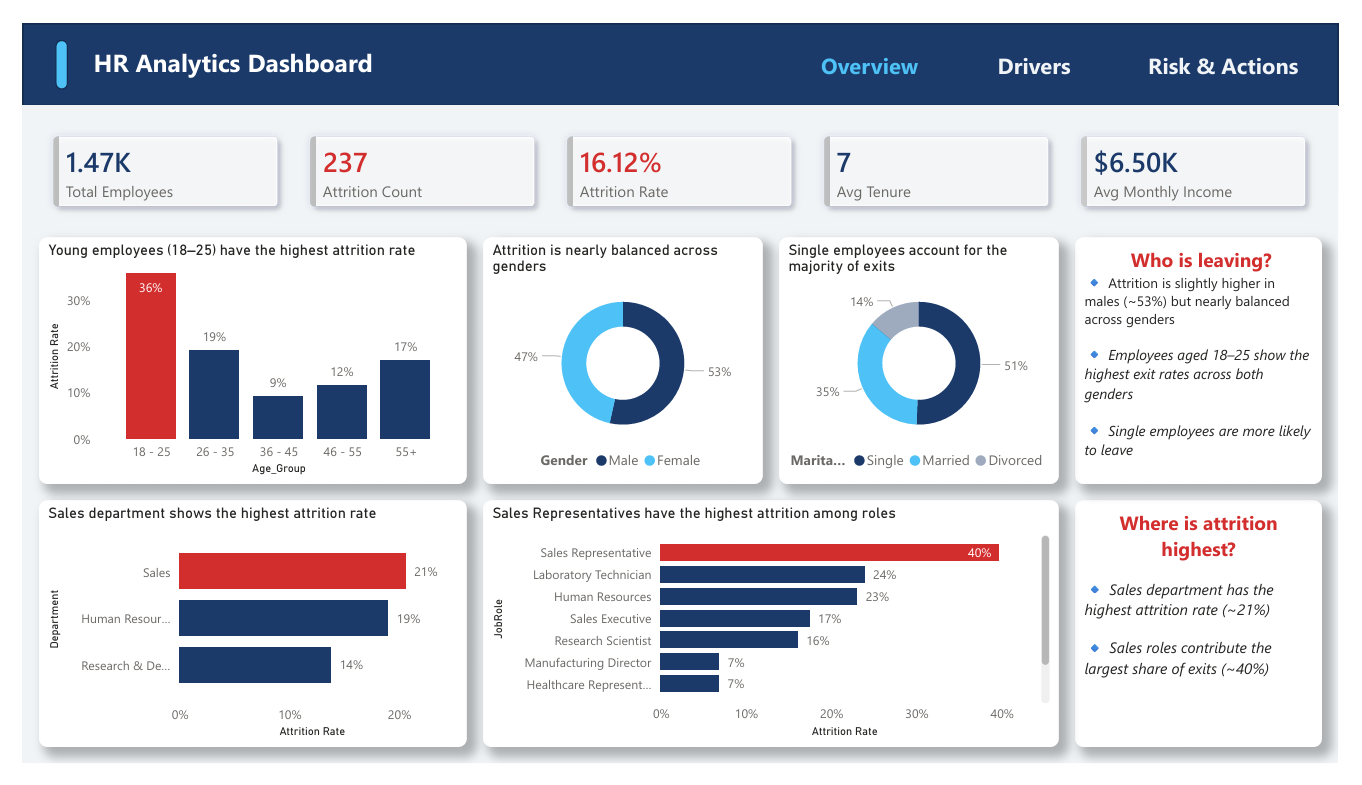

Layout of this report page (visuals, bound fields, positions):
{"tool":"powerbi","page":{"name":"Overview","canvas":[1280,720],"ordinal":0},"visuals":[{"type":"shape","box":[0,0,1280,80],"z":0},{"type":"textbox","box":[64,16,304,48],"z":1000},{"type":"shape","box":[32,16,12,48],"z":2000},{"type":"cardVisual","fields":{"Data":["_All Measures.Total Employees","_All Measures.Attrition Count","_All Measures.Attrition Rate","_All Measures.Avg Tenure","_All Measures.Avg Monthly Income"]},"box":[0,80,1280,128],"z":3000},{"type":"columnChart","title":"Young employees (18–25) have the highest attrition rate","fields":{"Category":["WA_Fn-UseC_-HR-Employee-Attrition.Age_Group"],"Y":["_All Measures.Attrition Rate"]},"box":[16,208,416,240],"z":4000},{"type":"barChart","title":"Sales department shows the highest attrition rate","fields":{"Y":["_All Measures.Attrition Rate"],"Category":["WA_Fn-UseC_-HR-Employee-Attrition.Department"]},"box":[16,464,416,240],"z":5000},{"type":"textbox","box":[1024,464,240,240],"z":6000},{"type":"donutChart","title":"Attrition is nearly balanced across genders","fields":{"Category":["WA_Fn-UseC_-HR-Employee-Attrition.Gender"],"Y":["_All Measures.Attrition Rate"]},"box":[448,208,272,240],"z":7000},{"type":"textbox","box":[1024,208,240,240],"z":8000},{"type":"actionButton","box":[768,16,112,48],"z":9000},{"type":"actionButton","box":[944,16,80,48],"z":10000},{"type":"actionButton","box":[1088,16,160,48],"z":11000},{"type":"donutChart","title":"Single employees account for the majority of exits","fields":{"Y":["_All Measures.Attrition Count"],"Category":["WA_Fn-UseC_-HR-Employee-Attrition.MaritalStatus"]},"box":[736,208,272,240],"z":12000},{"type":"barChart","title":"Sales Representatives have the highest attrition among roles","fields":{"Y":["_All Measures.Attrition Rate"],"Category":["WA_Fn-UseC_-HR-Employee-Attrition.JobRole"]},"box":[448,464,560,240],"z":13000}]}

Visuals, with their boxes in screenshot pixels (x1, y1, x2, y2), scaled from the page's 1280x720 canvas onto the 1362x785 screenshot:
shape: <box>0,0,1361,87</box>
textbox: <box>68,17,392,70</box>
shape: <box>34,17,47,70</box>
cardVisual - _All Measures.Total Employees x _All Measures.Attrition Count: <box>0,87,1361,227</box>
"Young employees (18–25) have the highest attrition rate" columnChart: <box>17,227,460,488</box>
"Sales department shows the highest attrition rate" barChart: <box>17,506,460,768</box>
textbox: <box>1090,506,1345,768</box>
"Attrition is nearly balanced across genders" donutChart: <box>477,227,766,488</box>
textbox: <box>1090,227,1345,488</box>
actionButton: <box>817,17,936,70</box>
actionButton: <box>1004,17,1090,70</box>
actionButton: <box>1158,17,1328,70</box>
"Single employees account for the majority of exits" donutChart: <box>783,227,1073,488</box>
"Sales Representatives have the highest attrition among roles" barChart: <box>477,506,1073,768</box>
